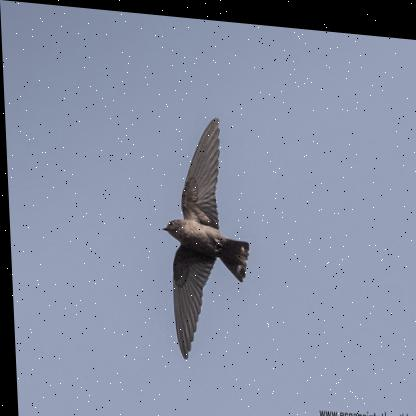Burung: (155, 108, 251, 360)
